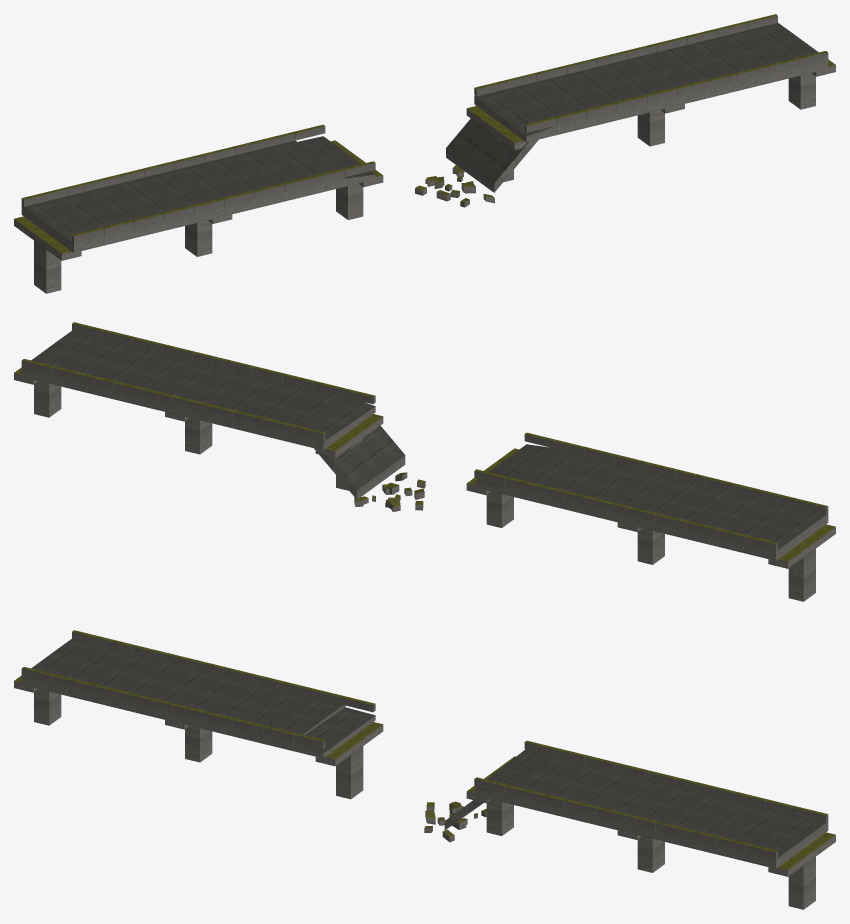
File: overpass.gltf
3 views of the same model, one above another, from view 1: azimuth 30°, elevation 25°; view 2: azimuth 150°, elevation 25°; view 3: azimuth 330°, elevation 25° (orthographic).
Parts seen in each view (by area): view 1: overpass; view 2: overpass; view 3: overpass.
Boxes of the visible parts, x1,y1,x2,y2 form: overpass: [14, 14, 835, 293]; overpass: [14, 322, 835, 601]; overpass: [14, 630, 835, 909].
Bounding box in the file's own units: 103 × 9.33 × 12.
